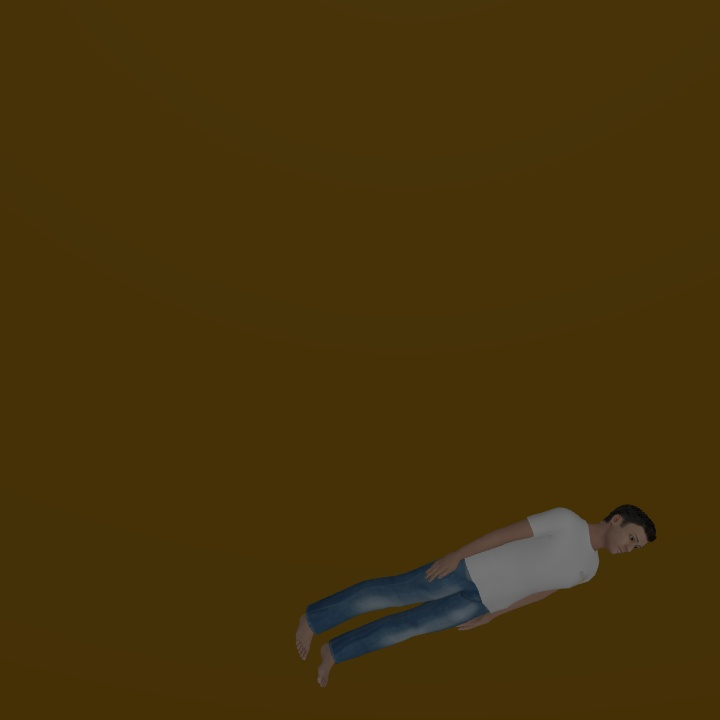victim: (296, 503, 654, 688)
